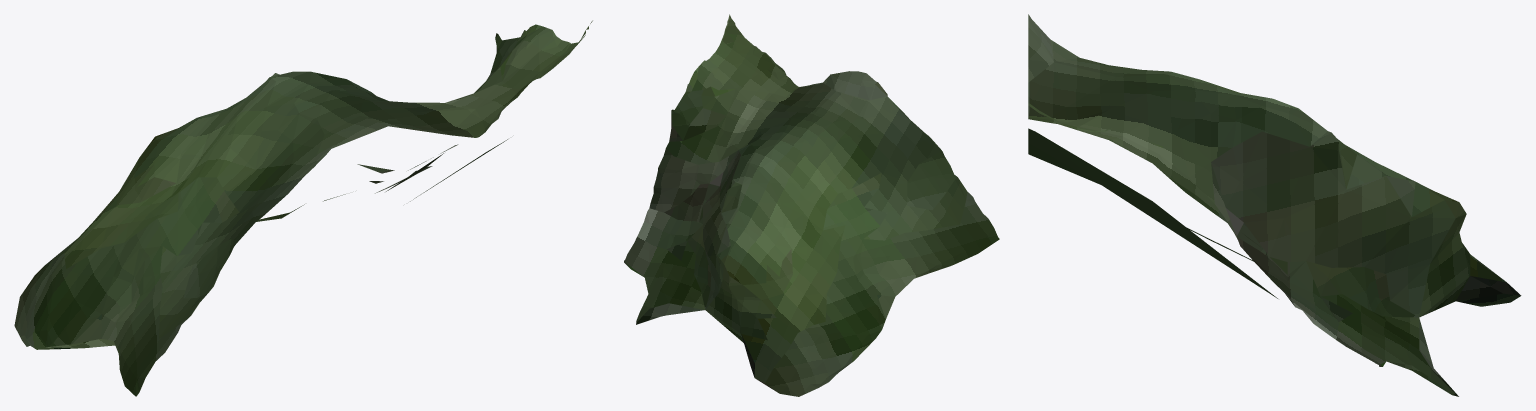
3 renders of one model, left to right at view 1: azimuth 30°, elevation 25°; view 2: azimuth 150°, elevation 25°; view 3: azimuth 270°, elevation 25°, orthographic. The views are drawn at different scales.
Size of the model in its own units: 0.2732 by 0.2251 by 0.2597.
1 material, 1 textured.
